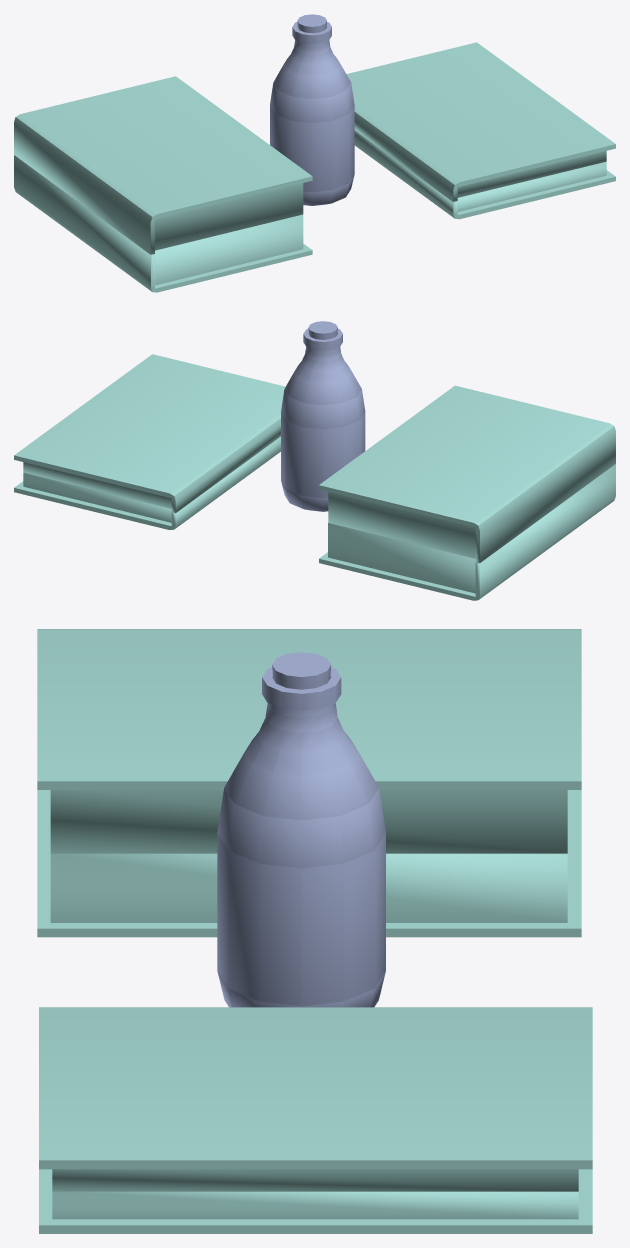
Rendered from BottleAndBook.fbx.
3 views of the same model, one above another, from view 1: azimuth 30°, elevation 25°; view 2: azimuth 150°, elevation 25°; view 3: azimuth 270°, elevation 25° (orthographic). The views are drawn at different scales.
Parts seen in each view (by area): view 1: book_01.001, Book_012.001, book_01, Cylinder034, Book_012, Cylinder034.001; view 2: book_01.001, Book_012.001, book_01, Cylinder034, Book_012, Cylinder034.001; view 3: Book_012.001, book_01.001, Cylinder034, book_01, Book_012, Cylinder034.001.
Part boxes in pixels (box(x1,y1,x2,y2)): book_01.001: box(14, 76, 312, 254); Book_012.001: box(346, 42, 615, 202); book_01: box(14, 155, 312, 292); Cylinder034: box(270, 22, 354, 205); Book_012: box(354, 130, 615, 219); Cylinder034.001: box(297, 14, 326, 33); book_01.001: box(319, 385, 615, 563); Book_012.001: box(14, 354, 285, 513); book_01: box(319, 464, 615, 600); Cylinder034: box(281, 328, 365, 511); Book_012: box(14, 436, 280, 529); Cylinder034.001: box(308, 321, 337, 339); Book_012.001: box(39, 1007, 592, 1191); book_01.001: box(37, 629, 581, 853); Cylinder034: box(217, 667, 385, 1007); book_01: box(37, 790, 581, 937); Book_012: box(39, 1169, 592, 1233); Cylinder034.001: box(272, 652, 331, 689).
Size of the model in its own units: 44.09 by 15.71 by 22.88.
